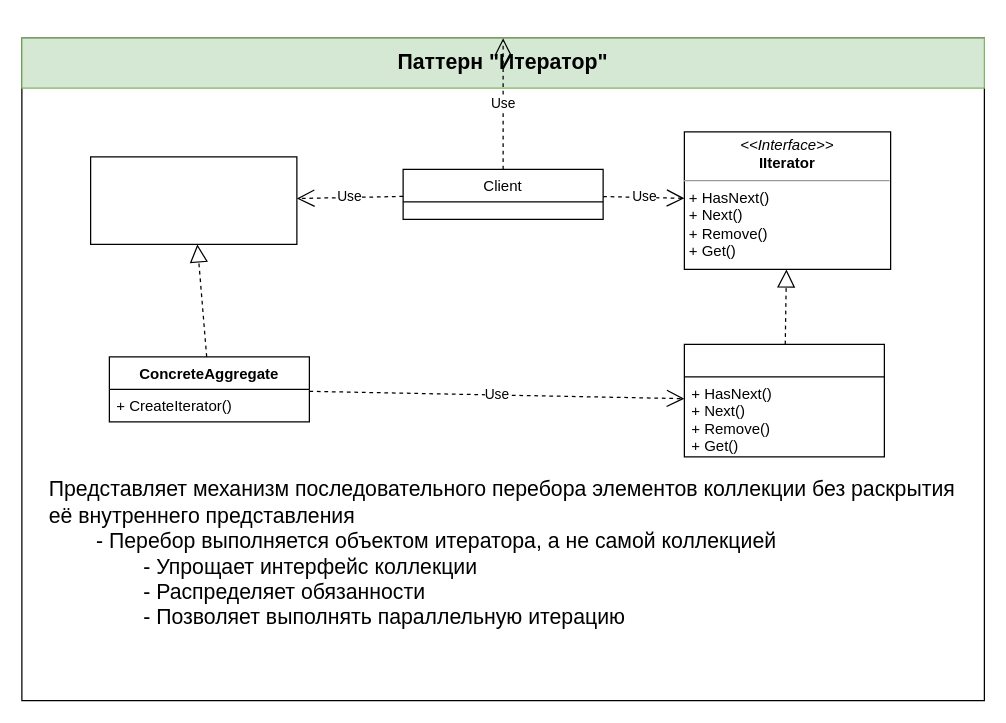
Image size: 1006x723. Some labels were removed from this diagram. Here are the shapes that lost their labels. From the top down, the box of each, then its label:
(89, 156, 297, 244): <<Interface>> IAggregate + CreateIterator()
(683, 343, 884, 457): ConcreteIterator
